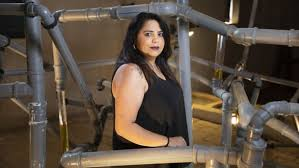middle_eastern_Female: (131, 11, 168, 60)
